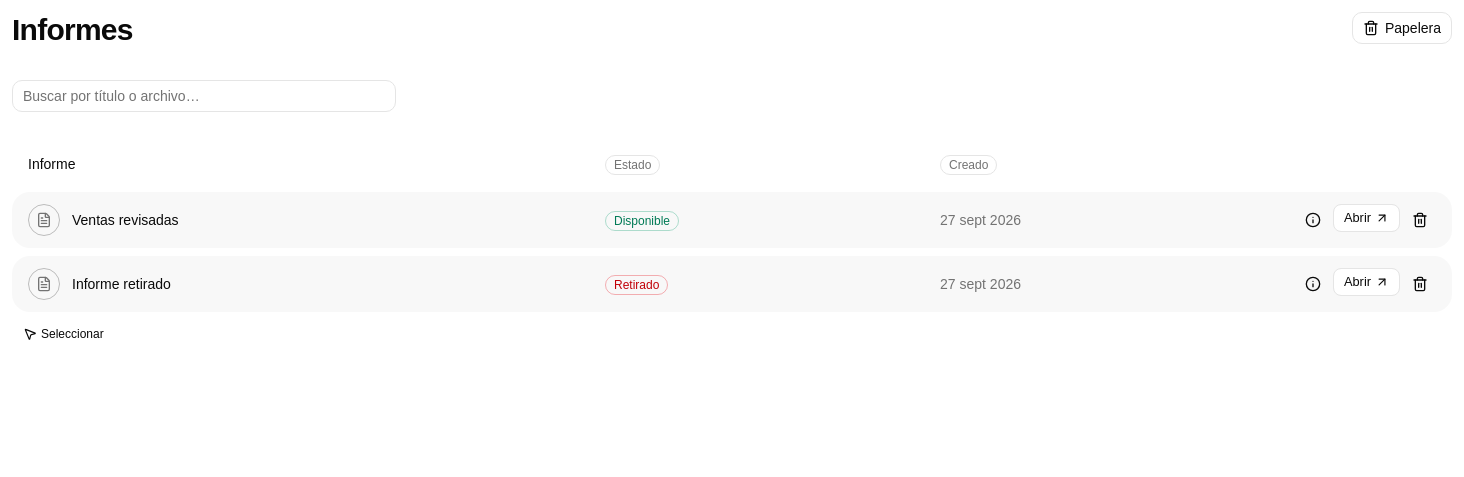
Test: selects the report while withdrawn rows explain unavailability and do not navigate
Click the button "Seleccionar" at (63, 334), box [12,320,115,348]
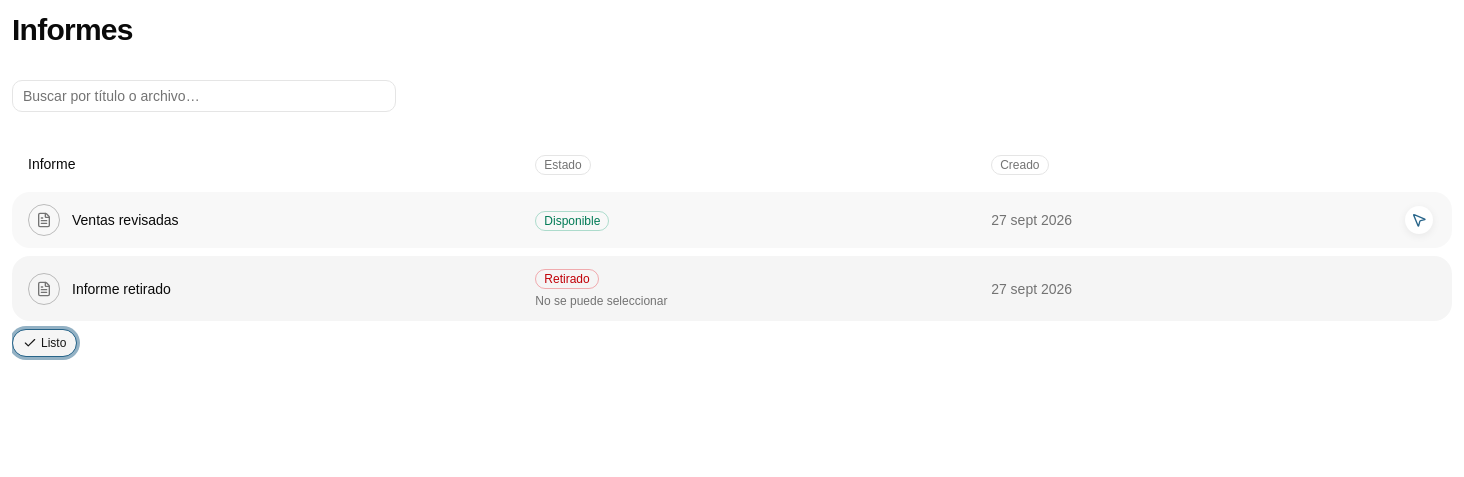
Now the text "No se puede seleccionar" is shown, box [535,294,667,308]
Click the text "retirado" at (732, 288), box [12,256,1452,321]
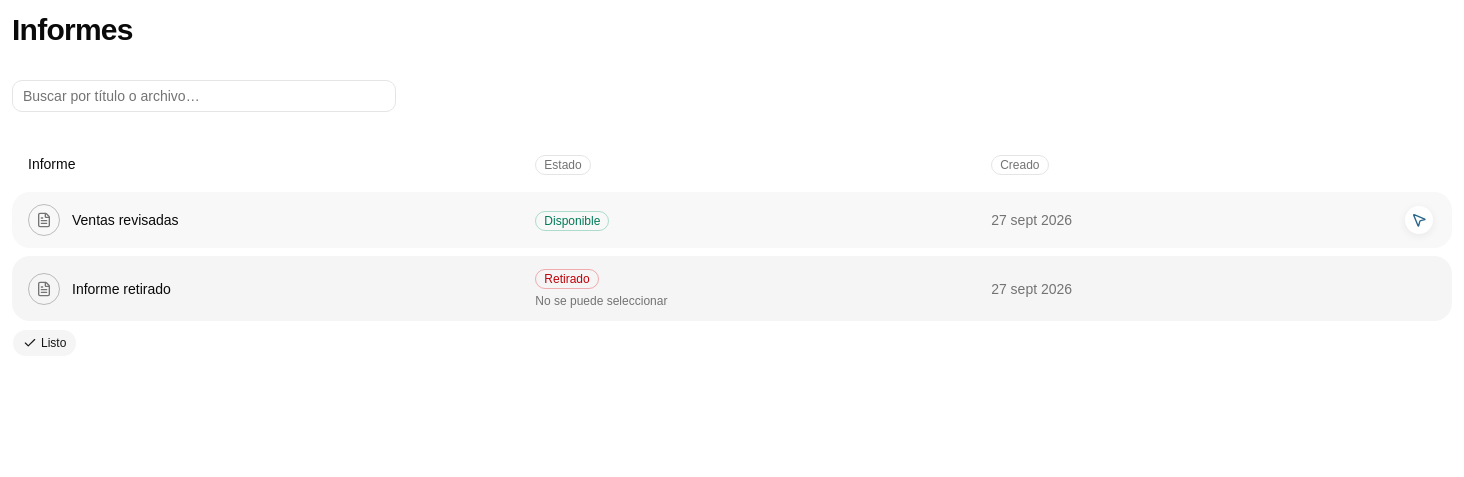
Click the button named "Seleccionar: Ventas revisadas" at (1419, 220), box [13,193,1451,247]
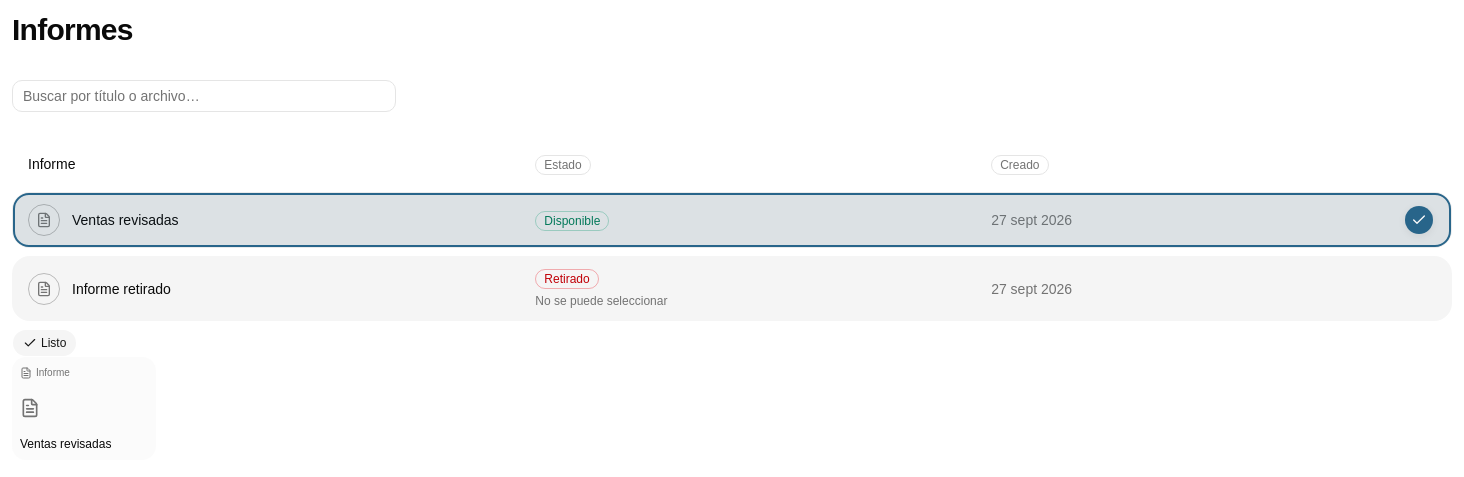
Now the button with aria-label "Ver adjunto: Ventas revisadas" shows "Informe", box [12,357,156,460]
